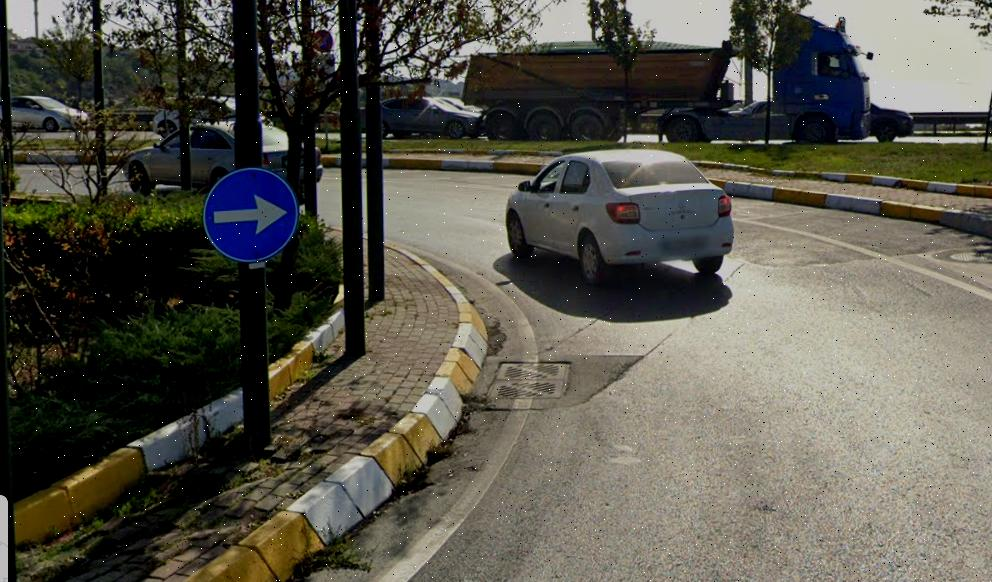turnright: (207, 174, 294, 262)
